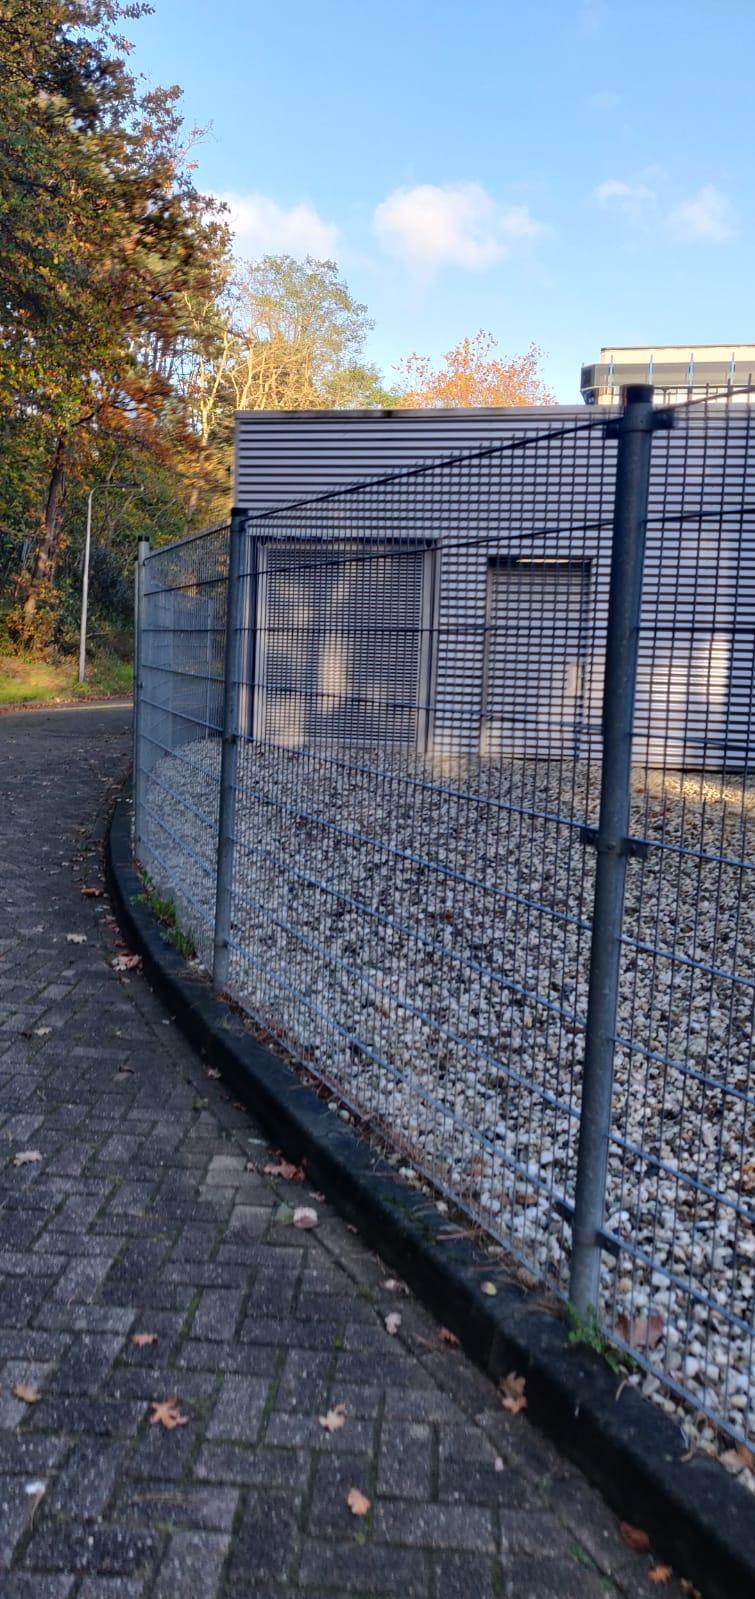obstacle: (0, 558, 755, 1457)
